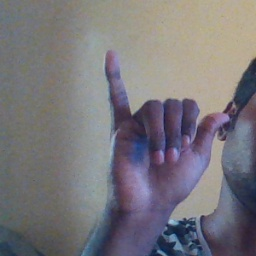J: (97, 48, 233, 203)
